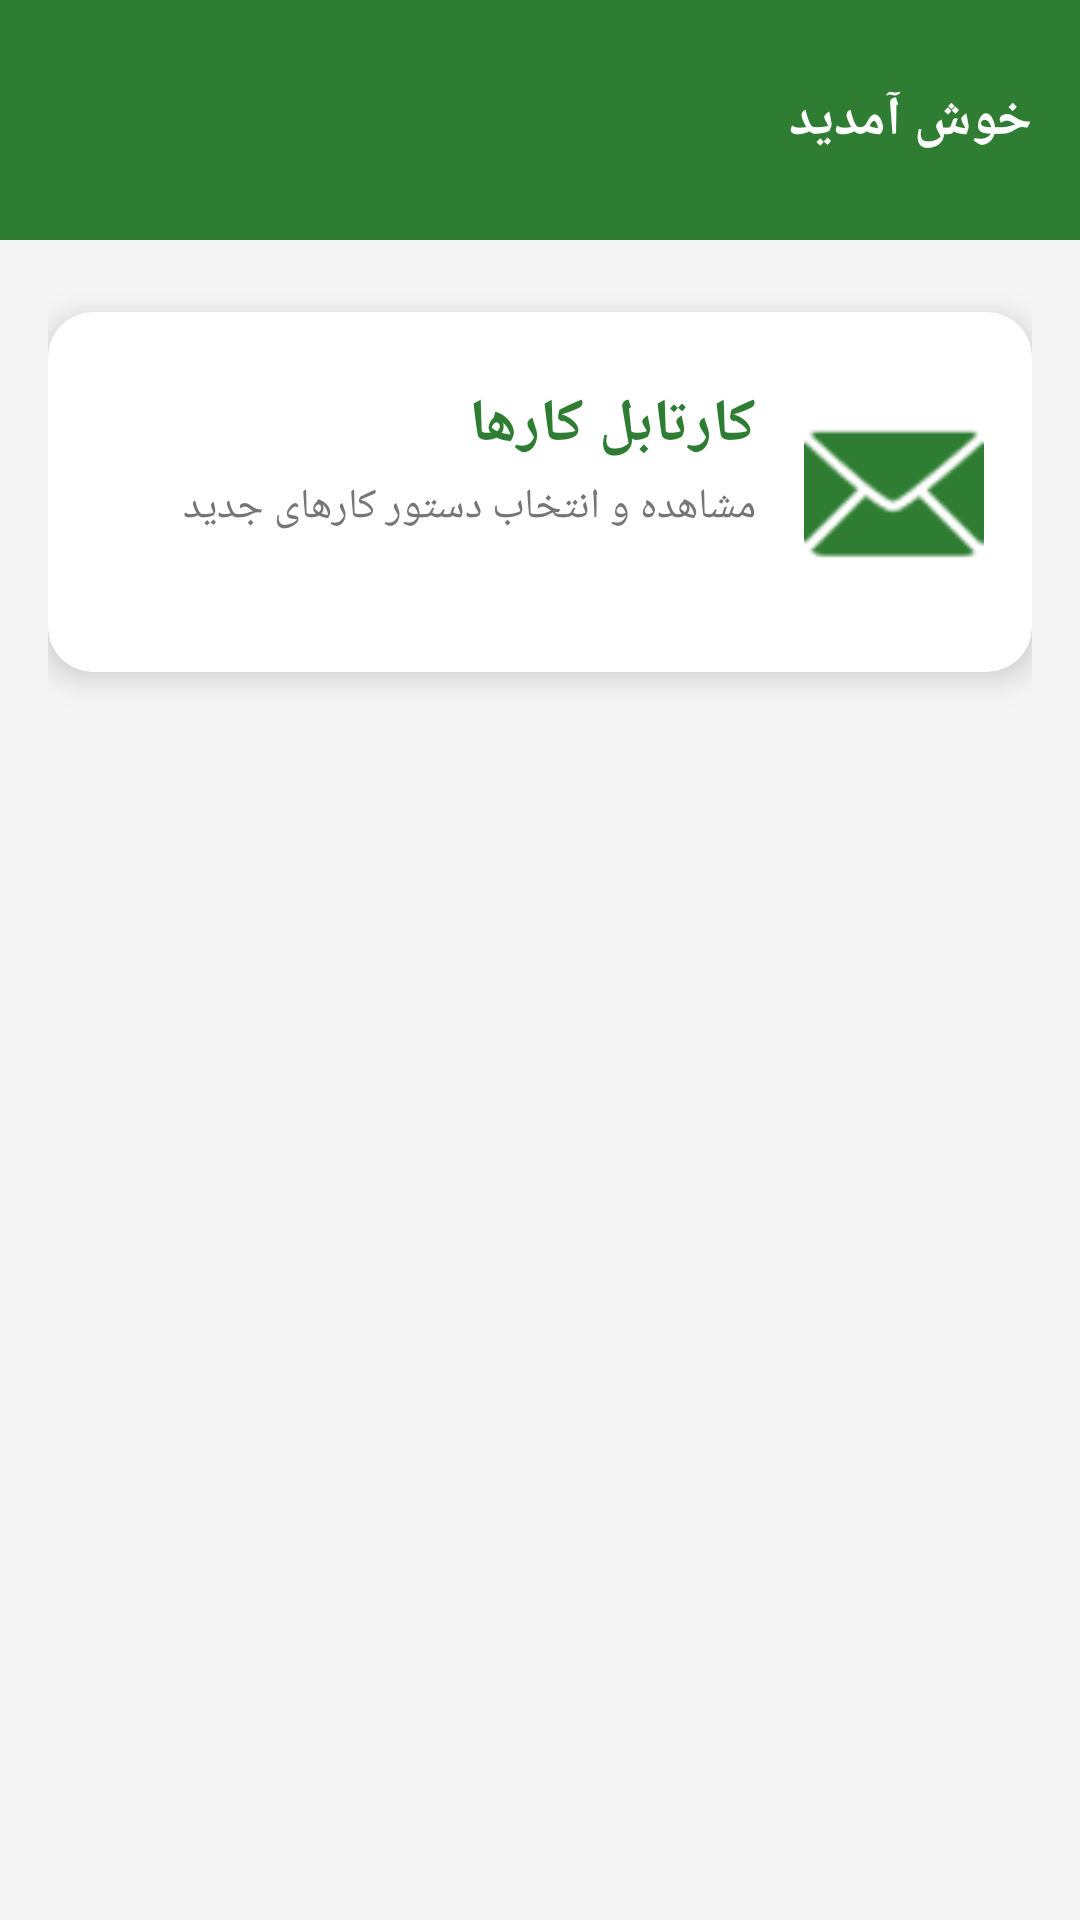

Named icons in this screenshot (1080×1920) and their centers, (x,y):
email: (894,494)
